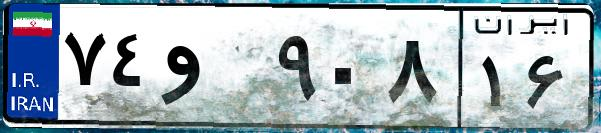0: (330, 28, 385, 110)
1: (475, 38, 525, 113)
4: (110, 28, 158, 98)
6: (525, 38, 570, 115)
7: (57, 26, 110, 100)
8: (385, 28, 445, 110)
9: (270, 28, 330, 110)
و: (158, 20, 270, 120)
